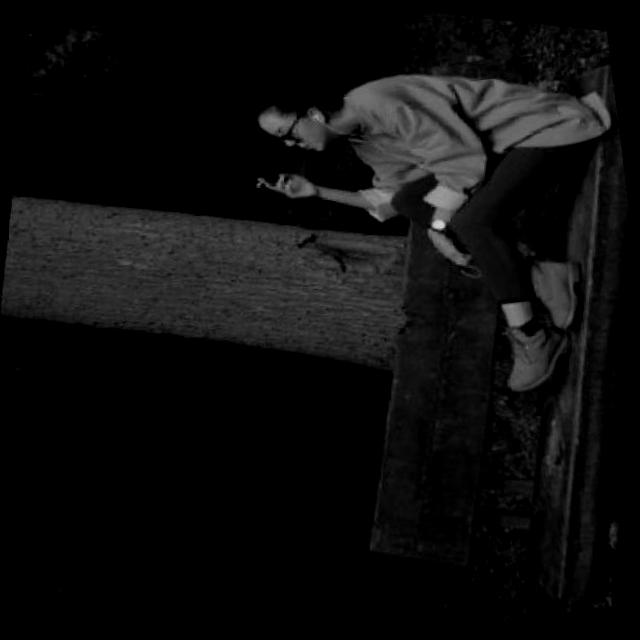smoke: (253, 175, 266, 189)
